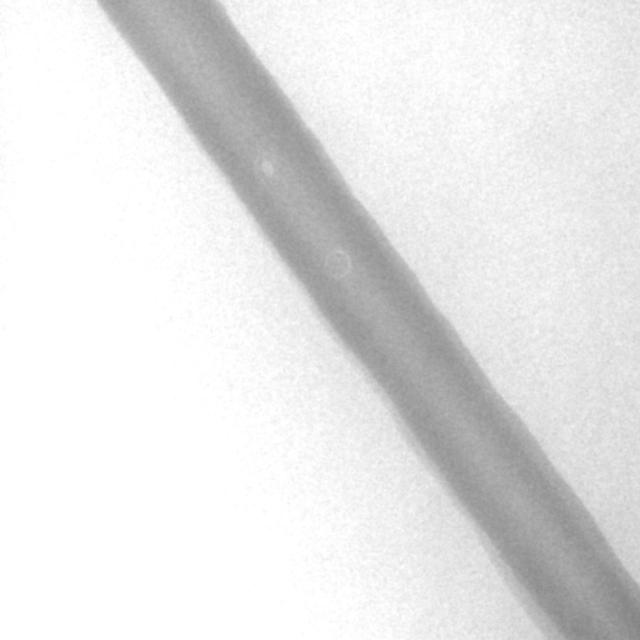hollow bead: (322, 248, 352, 284)
